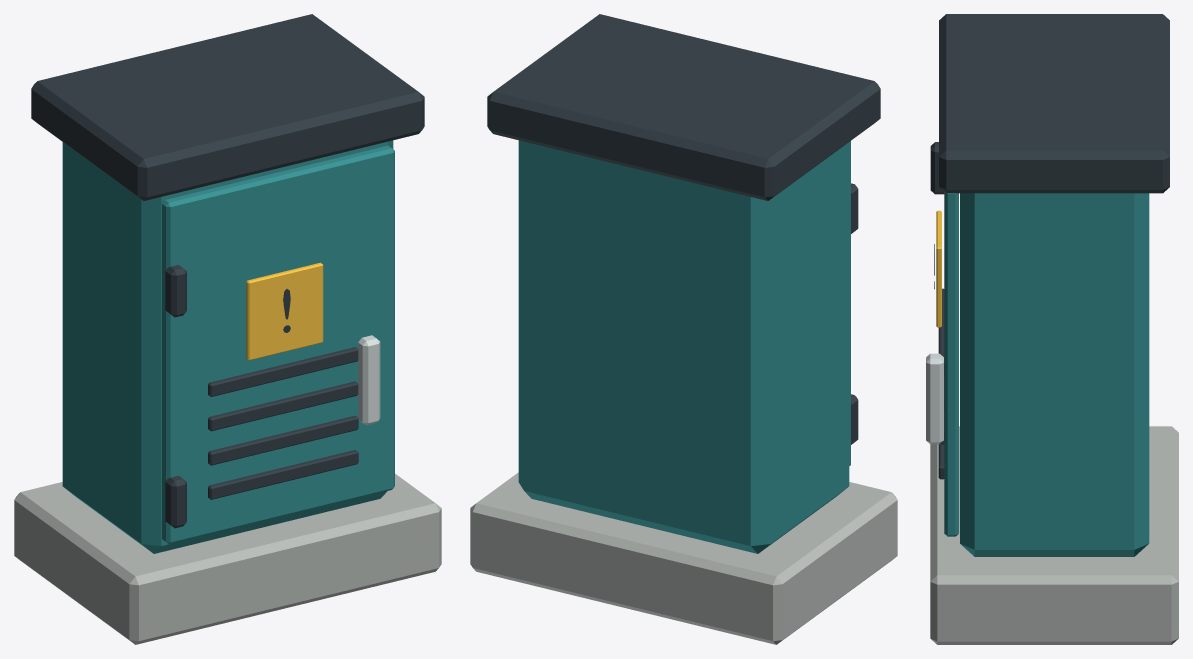
File: Utility_Box_Small.glb
The picture shows the model from 3 angles, left to right: view 1: azimuth 30°, elevation 25°; view 2: azimuth 150°, elevation 25°; view 3: azimuth 270°, elevation 25°; orthographic projection.
Visible parts, largest first — view 1: Utility_Box_Small; view 2: Utility_Box_Small; view 3: Utility_Box_Small.
Boxes of the visible parts, box(x1,y1,x2,y2) form: Utility_Box_Small: box(14, 14, 441, 644); Utility_Box_Small: box(470, 14, 897, 644); Utility_Box_Small: box(926, 14, 1178, 644).
Size of the model in its own units: 0.62 by 0.91 by 0.427.
